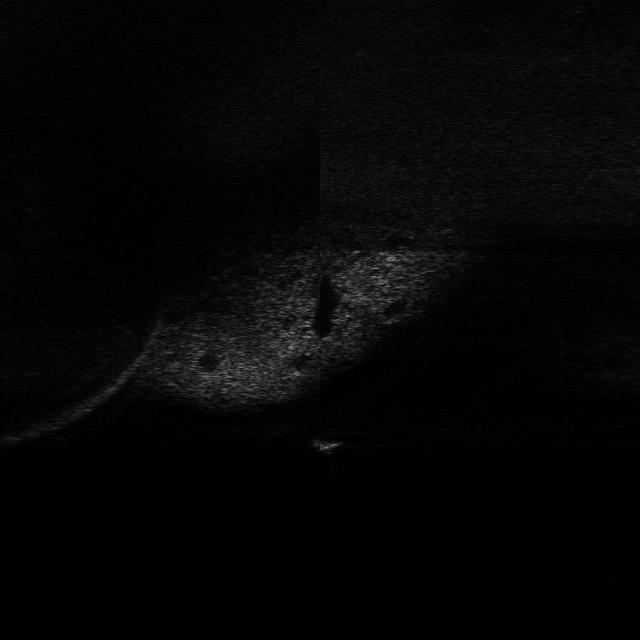cube: (300, 434, 346, 454)
